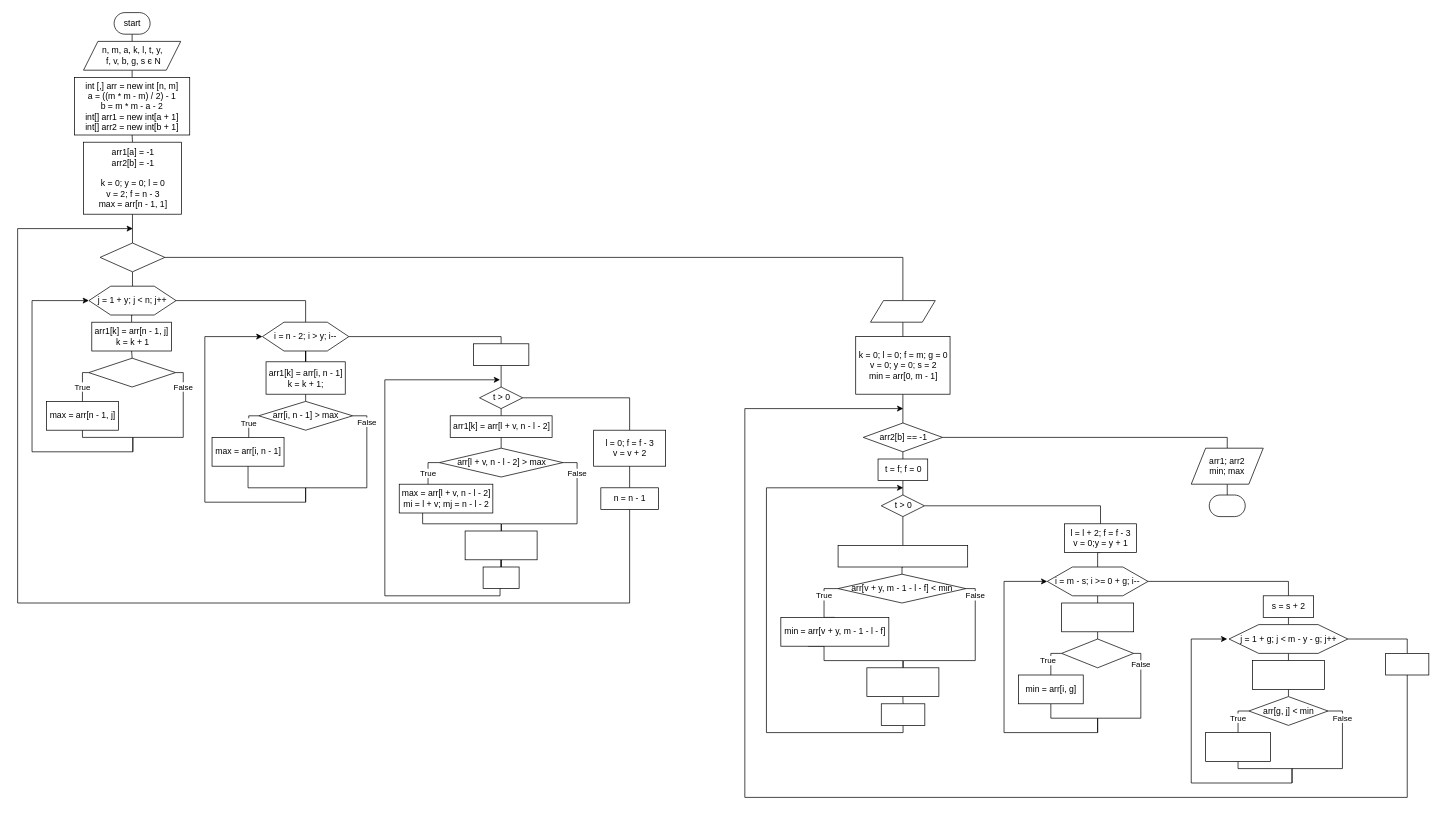
The diagram is 1441 pixels wide and 816 high, and some of its shapes have lost their labels. Here are the shapes that lost their labels. From the top down, the box of each, then its label:
(99, 242, 165, 272): arr1[a] = -1
(870, 300, 935, 322): max
(88, 357, 176, 387): arr[n - 1, j] > max
(473, 343, 529, 365): y = y + 2 t = f; f = 0
(1209, 494, 1245, 517): end
(464, 530, 537, 560): k = k + 1; l = l + 1 f = f + 1
(837, 545, 968, 567): arr2[k] = arr[v + y, m - 1 - l - f]
(482, 566, 519, 589): t = t - 1
(1061, 602, 1134, 632): arr2[k] = arr[i, g] k = k + 1
(1061, 638, 1134, 668): arr[i, g] < min
(1385, 653, 1429, 675): g = g + 1
(866, 667, 939, 697): k = k + 1;v = v + 1 f = f + 1
(1252, 660, 1324, 689): arr2[k] = arr[g, j] k = k + 1
(881, 703, 925, 725): t = t -1
(1205, 732, 1270, 761): min = arr[g, j]
